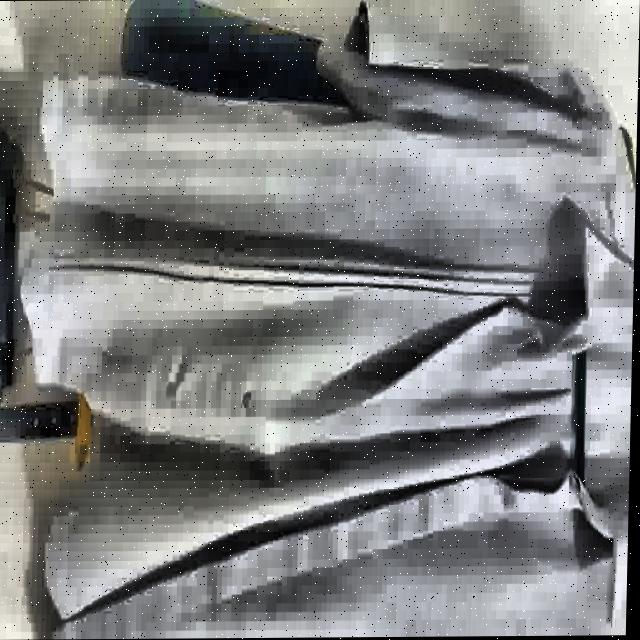clothes: (15, 7, 640, 631)
